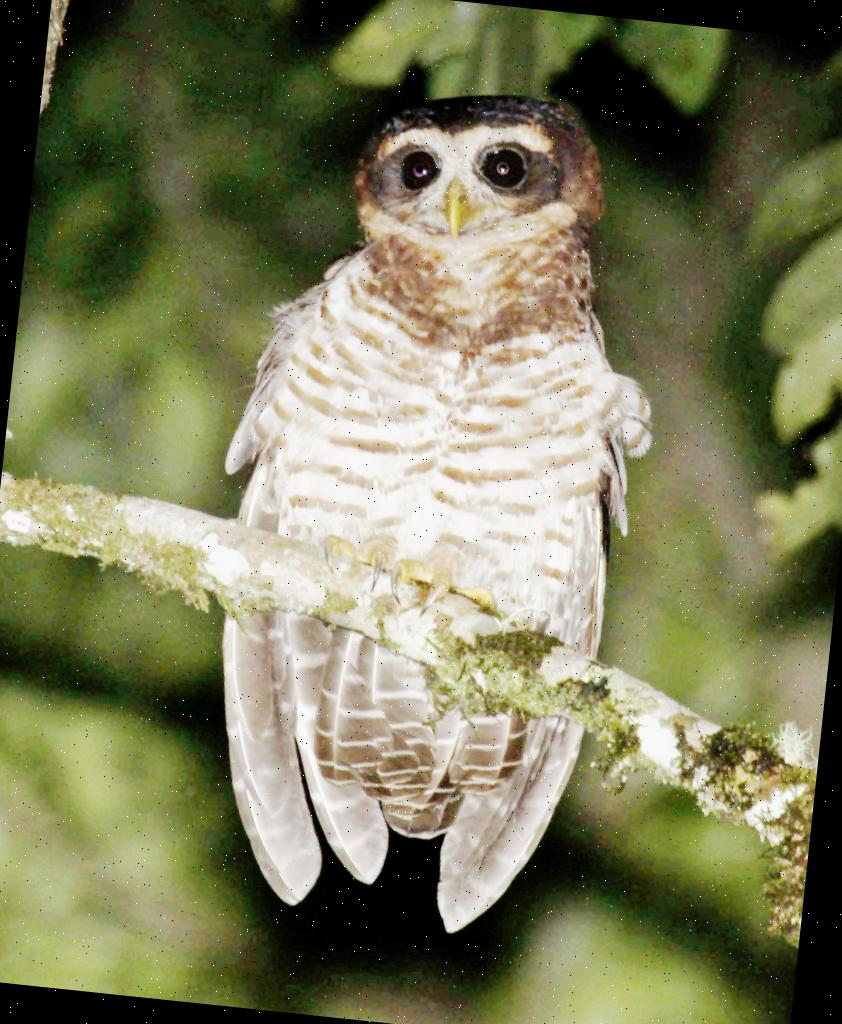Owl: (180, 58, 688, 956)
